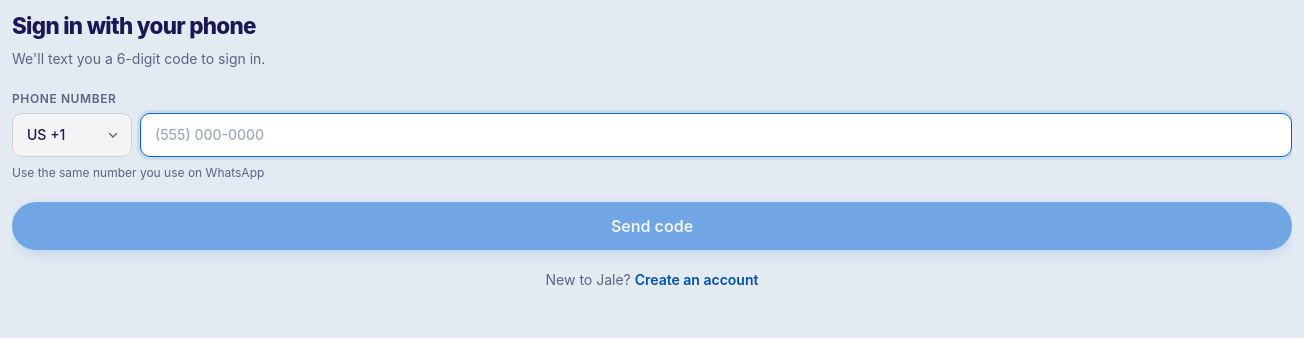
Scenario: WorkerAuthForm — which number to use › says it under the sign-up phone field too
Click the button "Create an account".
click(697, 280)  # box [635,270,758,290]
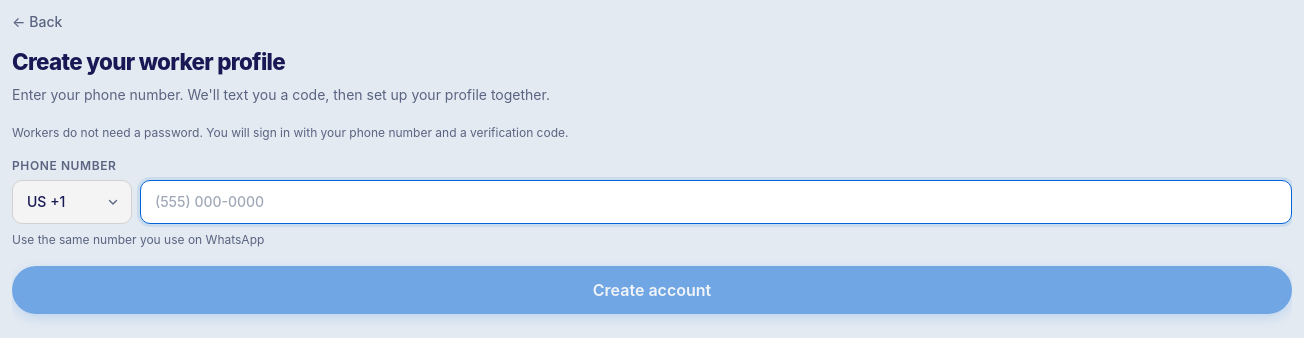
Check: the text "Use the same number you use on WhatsApp" is shown, box [12,232,264,247]
Check: the heading "Create your worker profile" is shown, box [12,48,285,75]
